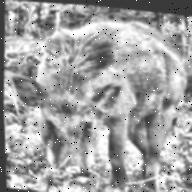boar: (34, 16, 179, 190)
